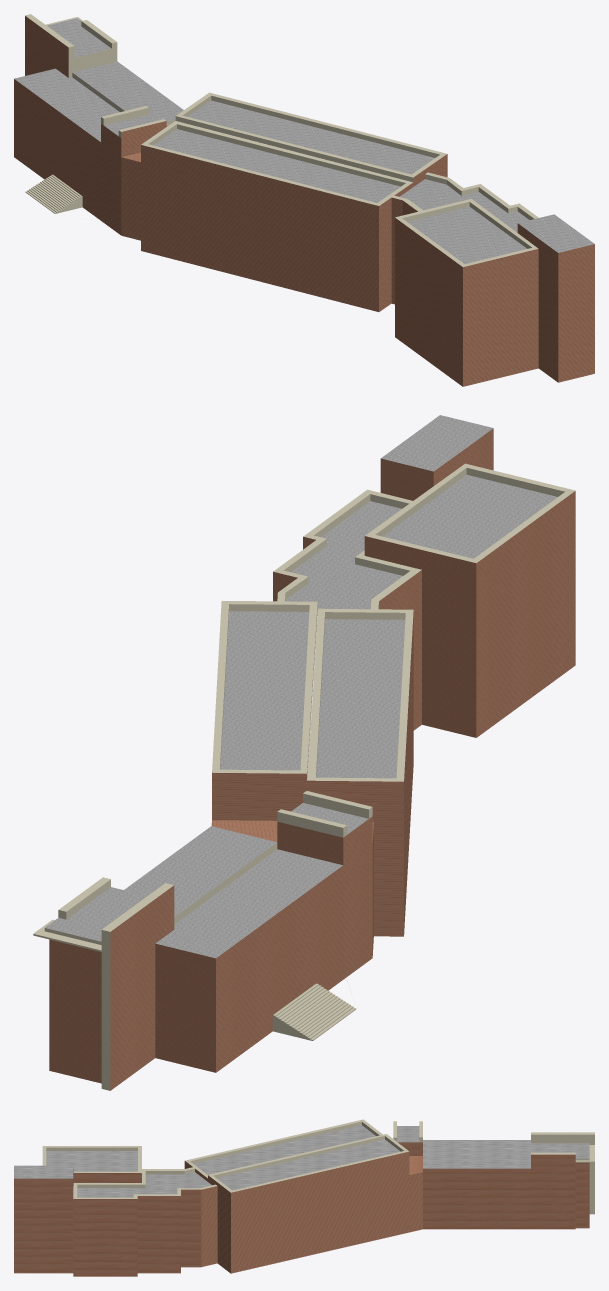
The picture shows the model from 3 angles, top to bottom: view 1: azimuth 30°, elevation 25°; view 2: azimuth 150°, elevation 25°; view 3: azimuth 270°, elevation 25°; orthographic projection. The views are drawn at different scales.
Bounding box in the file's own units: 54.84 × 27.14 × 151.
Materials: 6 (4 with a texture image).
